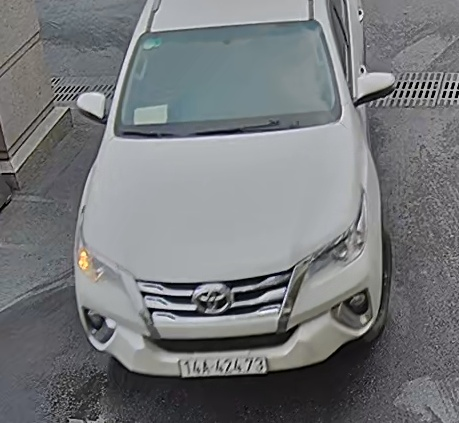vehicle plate: (173, 351, 276, 382)
